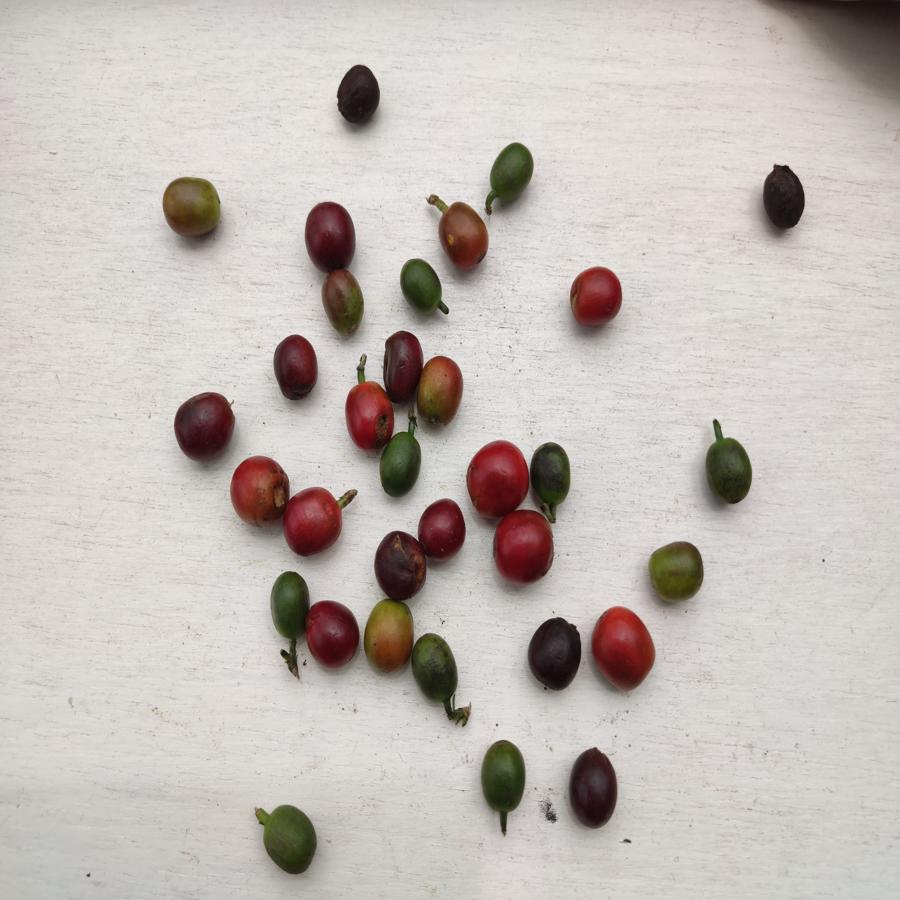Inmaduro: (257, 804, 324, 877), (476, 736, 529, 817), (707, 433, 755, 509), (413, 630, 461, 706), (268, 567, 311, 641), (378, 433, 425, 499), (485, 144, 539, 201), (531, 437, 573, 510), (398, 259, 452, 314)
Maduro: (591, 605, 657, 690), (494, 509, 562, 586), (463, 439, 529, 517), (283, 486, 348, 558), (228, 455, 291, 526), (563, 266, 625, 333), (345, 380, 392, 451)
Pinton: (647, 541, 709, 603), (365, 598, 413, 670), (418, 358, 468, 427), (163, 178, 219, 238), (320, 271, 371, 334), (439, 201, 488, 265)
Sobremaduro: (566, 746, 623, 831), (301, 201, 363, 274), (174, 388, 235, 461), (529, 616, 582, 692), (307, 597, 357, 673), (268, 330, 322, 399), (374, 529, 427, 599), (760, 162, 806, 232), (377, 330, 422, 400), (335, 65, 381, 124), (422, 500, 467, 556)
